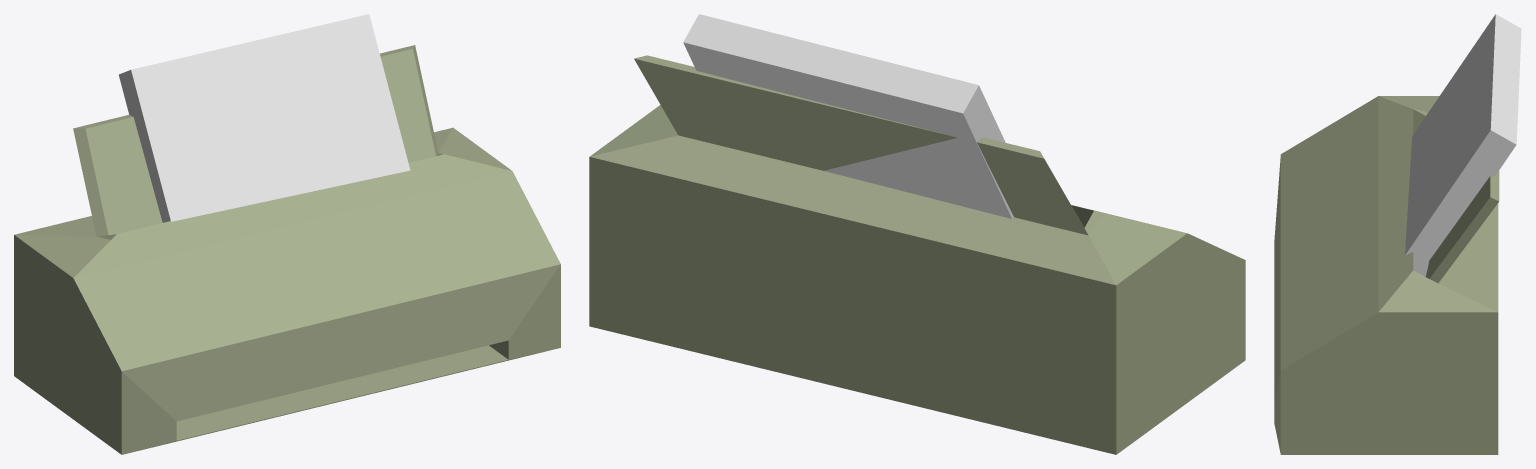
File: Printer.glb
3 views of the same model, side by side, from view 1: azimuth 30°, elevation 25°; view 2: azimuth 150°, elevation 25°; view 3: azimuth 270°, elevation 25° (orthographic). The views are drawn at different scales.
Visible parts, largest first — view 1: Cube.041; view 2: Cube.041; view 3: Cube.041.
Part boxes in pixels (x1,y1,x2,y2): Cube.041: (14, 14, 560, 454); Cube.041: (589, 14, 1245, 454); Cube.041: (1274, 14, 1521, 454).
Size of the model in its own units: 2.23 by 1.35 by 1.07.
